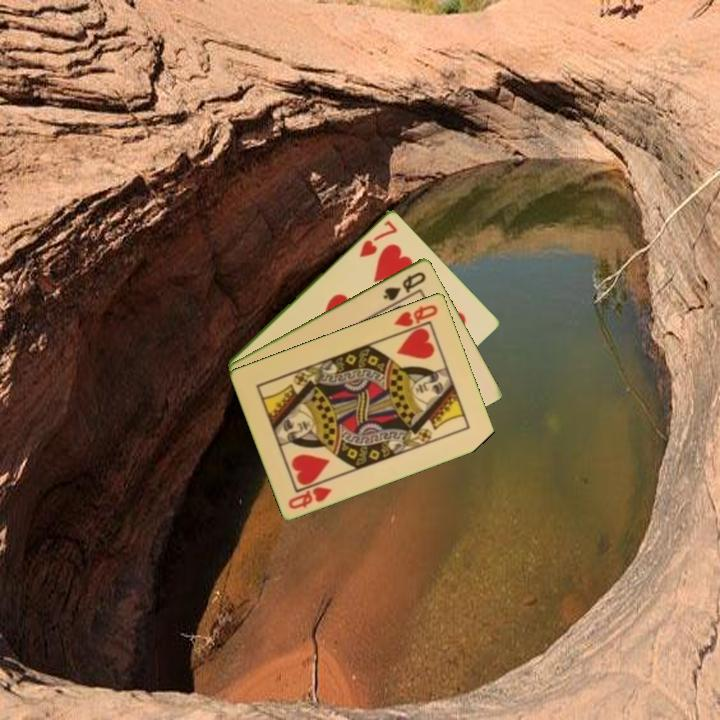7h: (356, 216, 400, 260)
Qh: (391, 301, 441, 336), (285, 482, 335, 512)
Qs: (380, 268, 429, 303)
